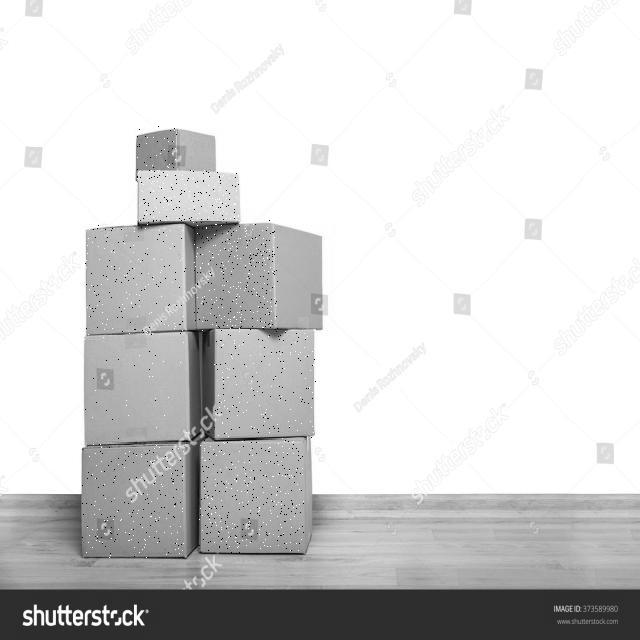BoxFace: (199, 440, 304, 554), (82, 444, 184, 558), (84, 336, 190, 444), (85, 224, 186, 337), (214, 330, 316, 440), (194, 220, 278, 332), (139, 170, 239, 223), (136, 126, 180, 181)
